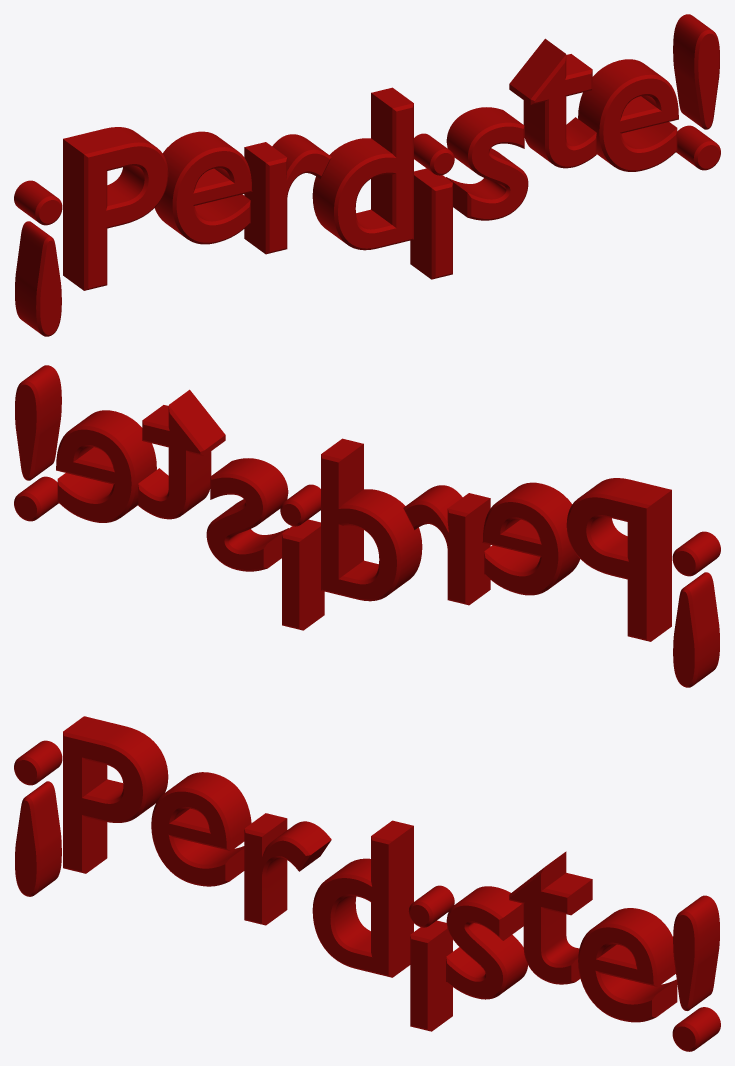
File: Perdiste.obj
3 renders of one model, top to bottom at view 1: azimuth 30°, elevation 25°; view 2: azimuth 150°, elevation 25°; view 3: azimuth 330°, elevation 25°, orthographic.
Visible parts, largest first — view 1: Texto.013_CUTexto.013; view 2: Texto.013_CUTexto.013; view 3: Texto.013_CUTexto.013.
Part boxes in pixels (x1=…): Texto.013_CUTexto.013: x1=14, y1=14, x2=720, y2=336; Texto.013_CUTexto.013: x1=14, y1=365, x2=720, y2=687; Texto.013_CUTexto.013: x1=14, y1=716, x2=720, y2=1051.
Bounding box in the file's own units: 3.73 × 1.09 × 0.228.
